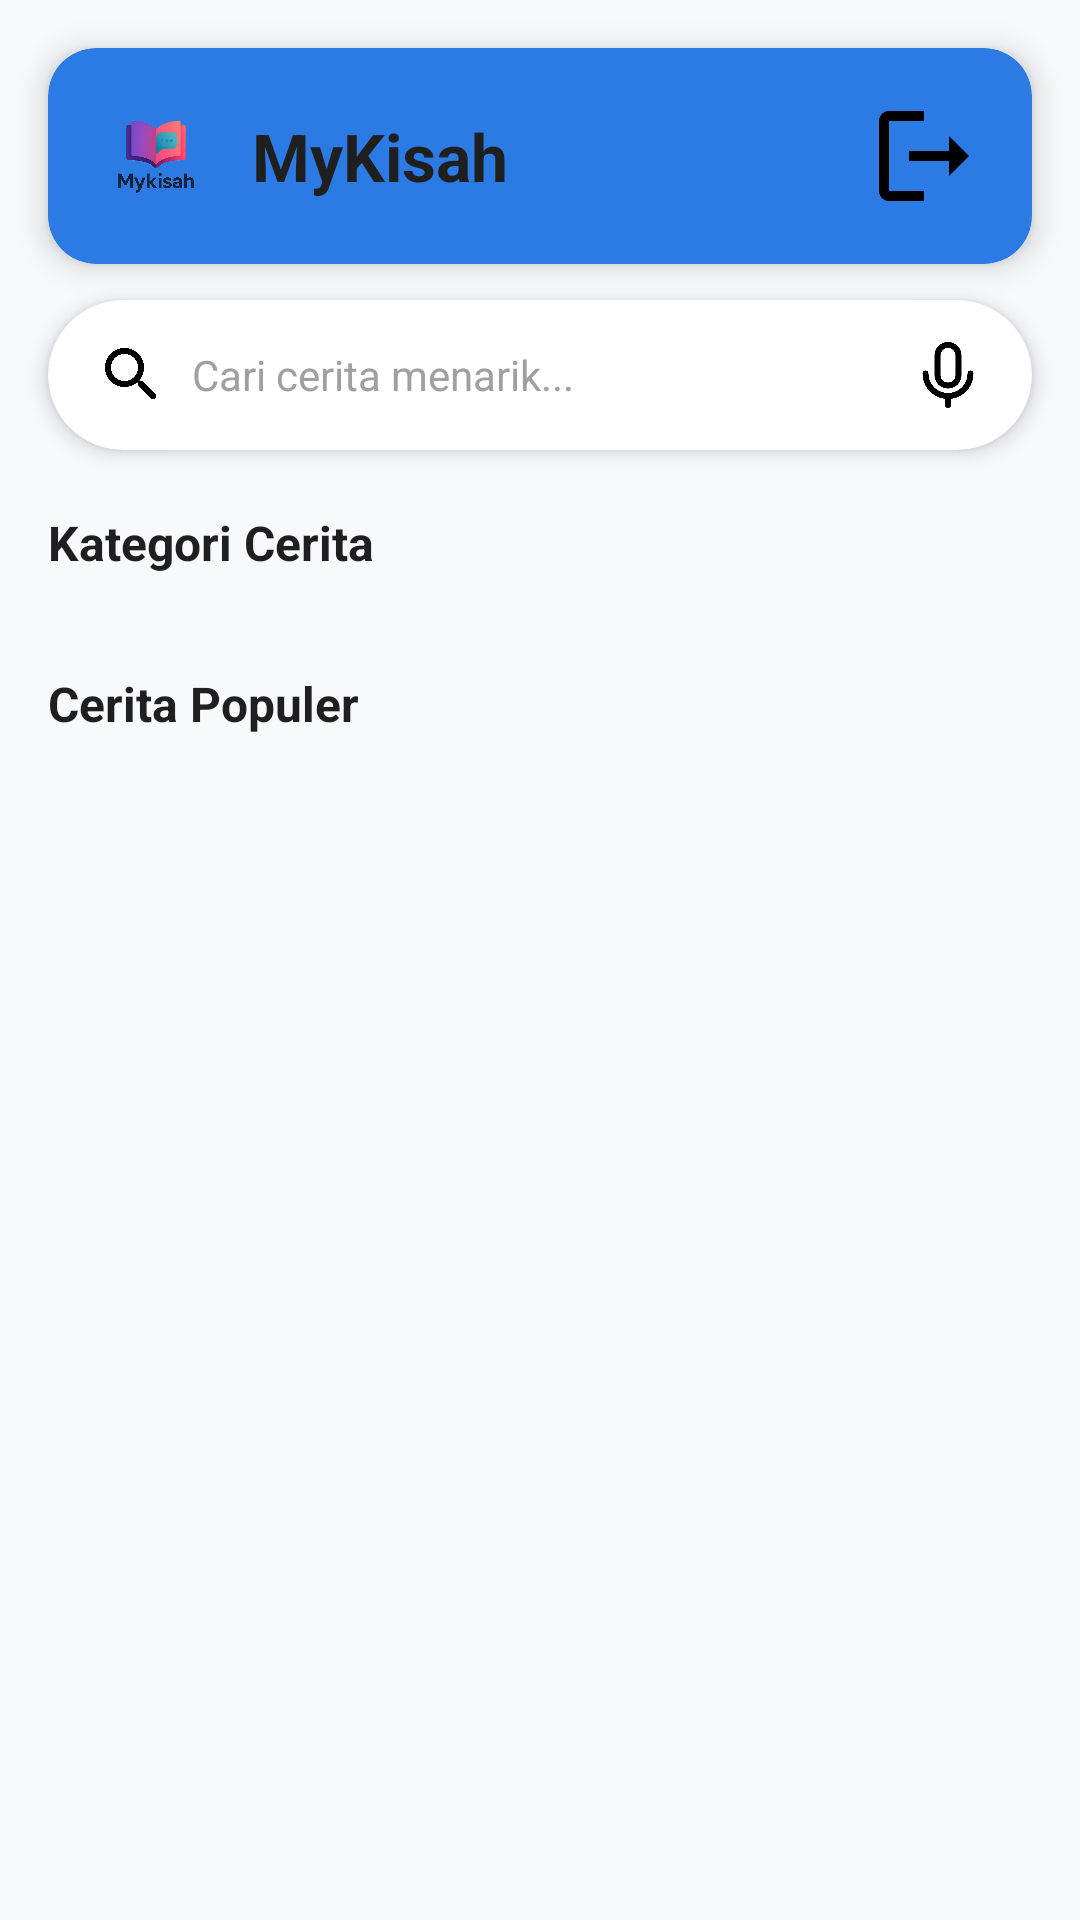

Icons on this 1080w x 1920h Android screen, each with the point to tap as point (x, y):
Search Icon: point (130, 373)
Voice Search: point (948, 375)
